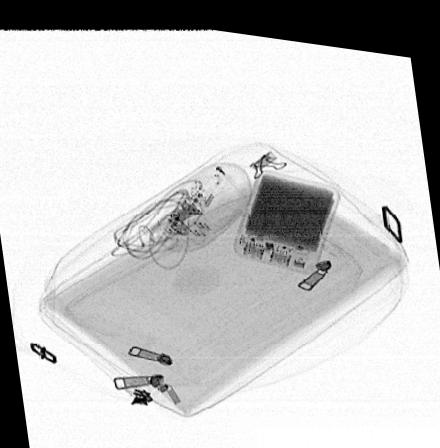Powerbank: (230, 161, 340, 264)
